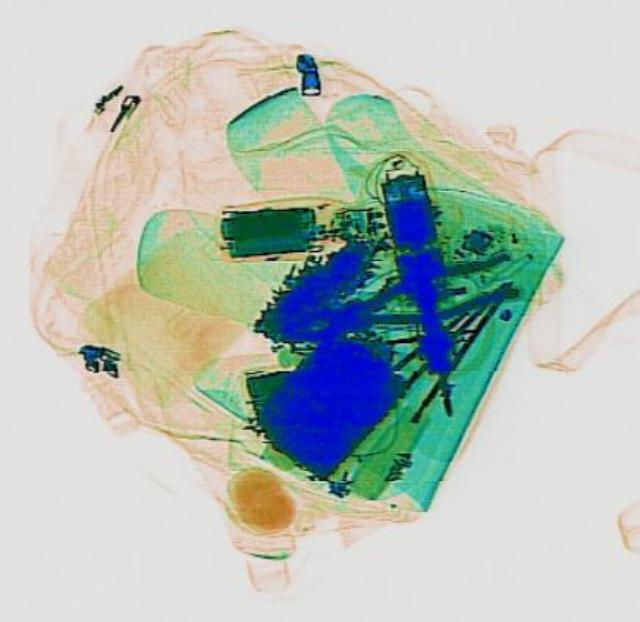Pliers: (280, 247, 520, 349)
